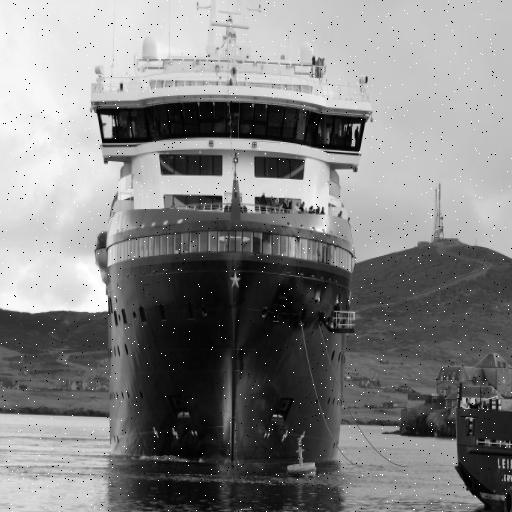cruises: (89, 1, 375, 492)
